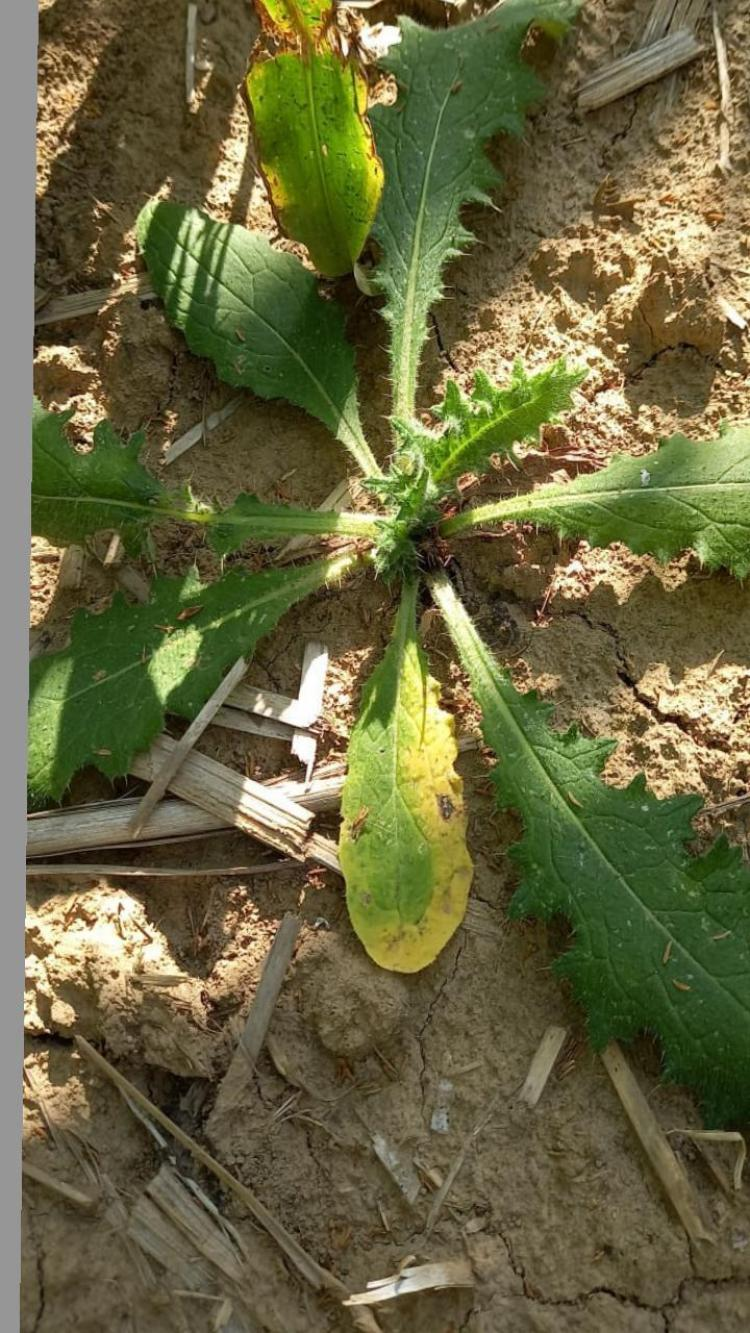osot: (35, 2, 750, 1152)
